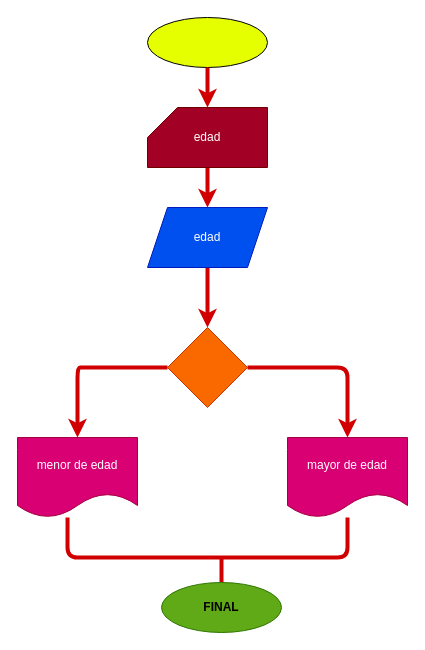
Image size: 425x650. Some labels were removed from this diagram. The shapes that lost their labels are listed below. From the top down, each one's centre as x and y in pixels, then its label:
point 207,42: INICIO
point 207,367: edad >= 18
